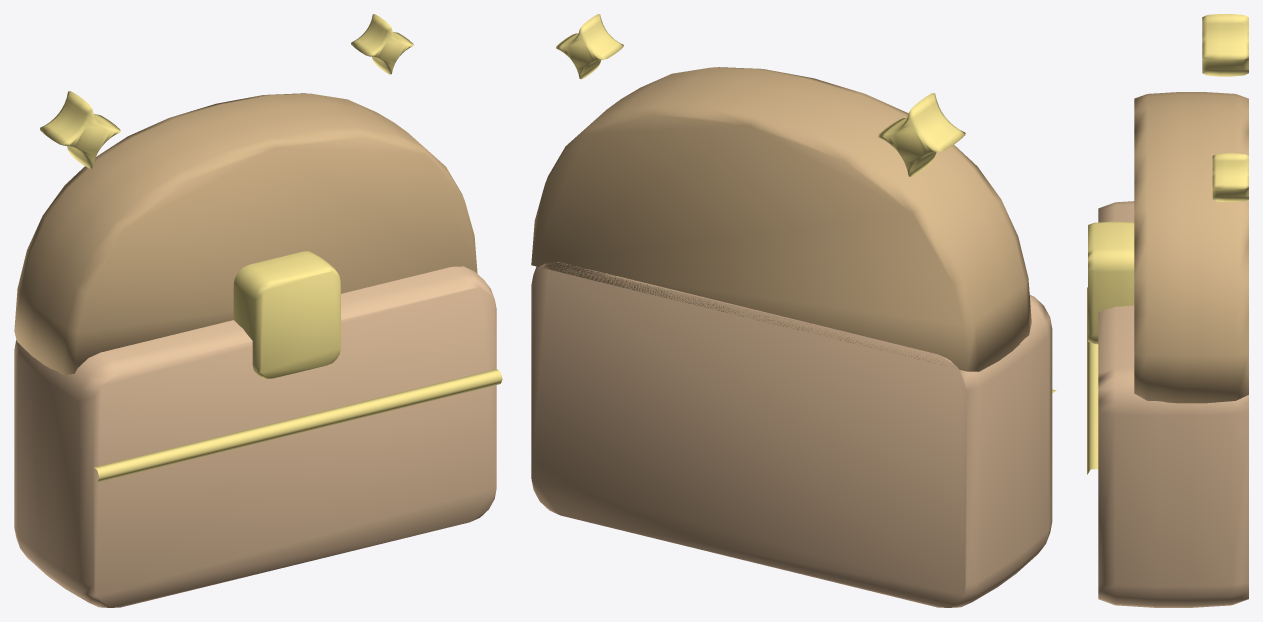
File: decor_4_classic.glb
3 views of the same model, side by side, from view 1: azimuth 30°, elevation 25°; view 2: azimuth 150°, elevation 25°; view 3: azimuth 270°, elevation 25° (orthographic). The views are drawn at different scales.
Visible parts, largest first — view 1: decor_4_classic; view 2: decor_4_classic; view 3: decor_4_classic.
Part boxes in pixels (box(x1,y1,x2,y2)): decor_4_classic: box(14, 14, 502, 607); decor_4_classic: box(531, 14, 1056, 607); decor_4_classic: box(1087, 14, 1248, 607).
Bounding box in the file's own units: 9.35 × 9.92 × 3.29.
